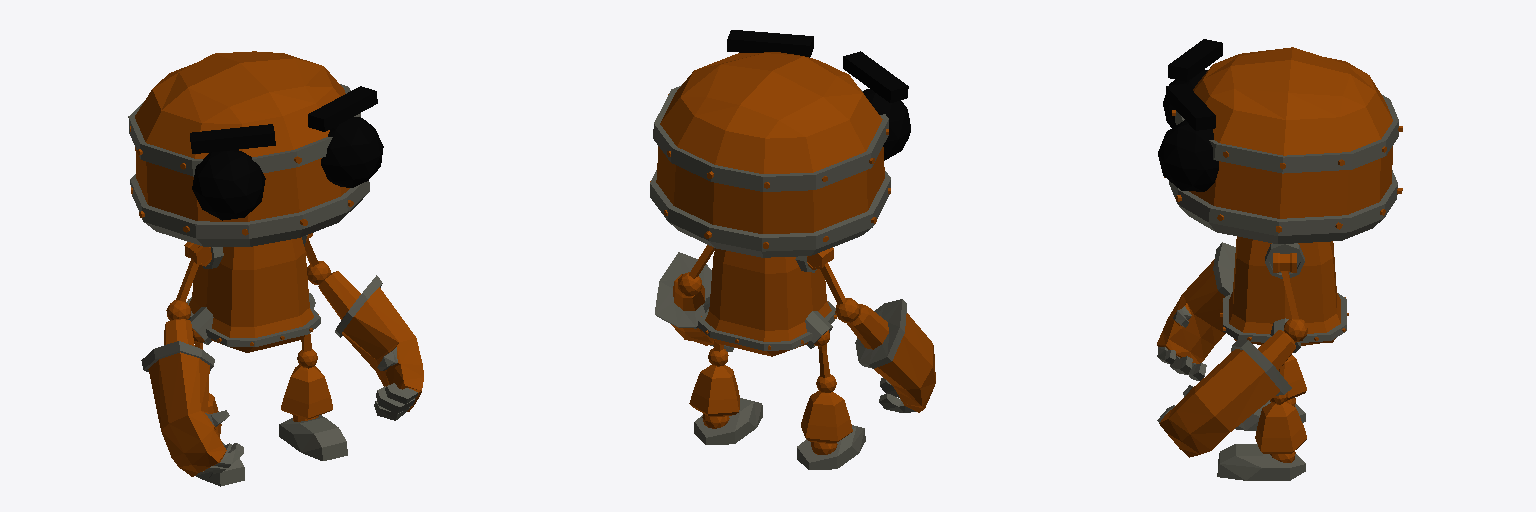
File: Robot.obj
The picture shows the model from 3 angles: view 1: azimuth 30°, elevation 25°; view 2: azimuth 150°, elevation 25°; view 3: azimuth 270°, elevation 25°; orthographic projection.
Visible parts, largest first — view 1: Head_Cylinder, Torso_Cube.001, Hand.R_Cylinder.015, Hand.L_Cylinder.022, Foot.L_Cylinder.014, LowerLeg.L_Cylinder.012, Arm.R_Cylinder.013, Foot.R_Cylinder.017, Arm.L_Cylinder.010; view 2: Head_Cylinder, Torso_Cube.001, Hand.R_Cylinder.015, Hand.L_Cylinder.022, LowerLeg.R_Cylinder.018, LowerLeg.L_Cylinder.012, Foot.L_Cylinder.014, Foot.R_Cylinder.017, Arm.R_Cylinder.013, Arm.L_Cylinder.010, Leg.R_Cylinder.019; view 3: Head_Cylinder, Torso_Cube.001, Hand.L_Cylinder.022, Hand.R_Cylinder.015, Foot.L_Cylinder.014, LowerLeg.L_Cylinder.012, Arm.L_Cylinder.010, LowerLeg.R_Cylinder.018.
Boxes of the visible parts, <box> form: Head_Cylinder: <box>128,51,383,246</box>; Torso_Cube.001: <box>186,235,320,352</box>; Hand.R_Cylinder.015: <box>141,319,243,478</box>; Hand.L_Cylinder.022: <box>318,271,423,420</box>; Foot.L_Cylinder.014: <box>279,415,347,460</box>; LowerLeg.L_Cylinder.012: <box>281,365,332,421</box>; Arm.R_Cylinder.013: <box>166,259,198,320</box>; Foot.R_Cylinder.017: <box>196,442,244,486</box>; Arm.L_Cylinder.010: <box>304,239,330,284</box>; Head_Cylinder: <box>650,30,910,257</box>; Torso_Cube.001: <box>698,248,836,356</box>; Hand.R_Cylinder.015: <box>847,299,935,412</box>; Hand.L_Cylinder.022: <box>655,252,733,351</box>; LowerLeg.R_Cylinder.018: <box>801,391,852,454</box>; LowerLeg.L_Cylinder.012: <box>689,365,739,428</box>; Foot.L_Cylinder.014: <box>694,398,762,444</box>; Foot.R_Cylinder.017: <box>797,425,865,469</box>; Arm.R_Cylinder.013: <box>820,262,859,322</box>; Arm.L_Cylinder.010: <box>678,245,714,296</box>; Leg.R_Cylinder.019: <box>816,344,836,392</box>; Head_Cylinder: <box>1158,39,1402,243</box>; Torso_Cube.001: <box>1220,236,1348,352</box>; Hand.L_Cylinder.022: <box>1157,330,1295,457</box>; Hand.R_Cylinder.015: <box>1157,242,1235,380</box>; Foot.L_Cylinder.014: <box>1217,444,1305,480</box>; LowerLeg.L_Cylinder.012: <box>1255,402,1306,462</box>; Arm.L_Cylinder.010: <box>1281,271,1307,342</box>; LowerLeg.R_Cylinder.018: <box>1270,355,1306,406</box>.
Size of the model in its own units: 3.1 by 4.5 by 2.63.